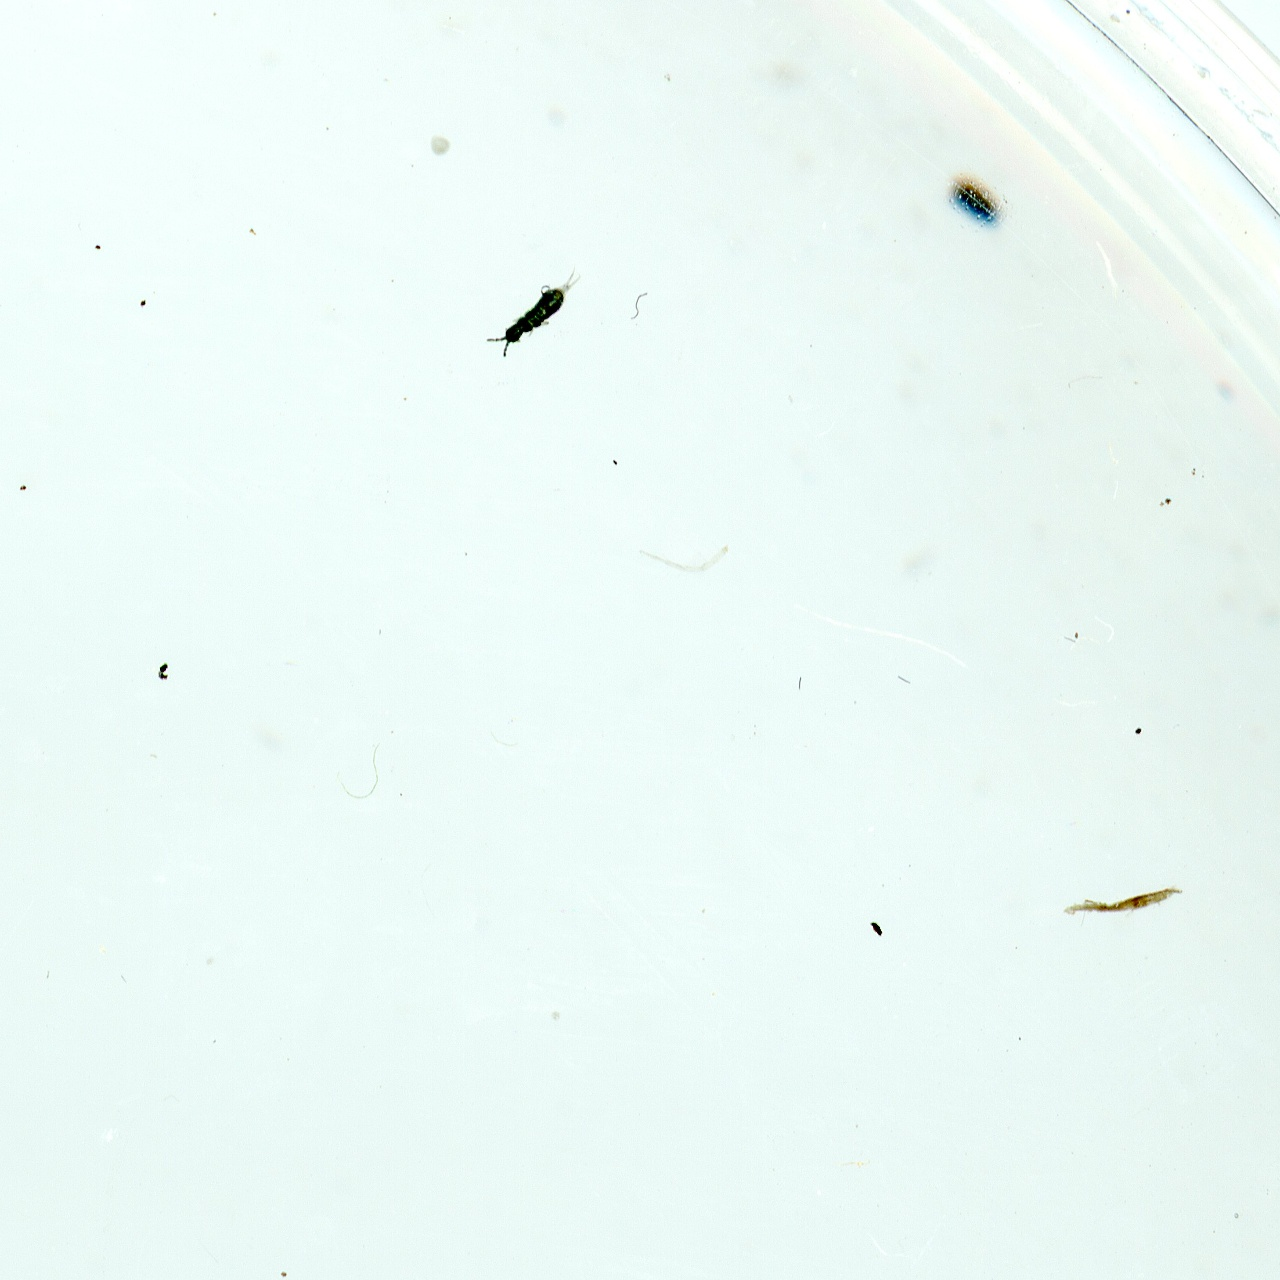arthropod: (476, 245, 593, 374)
